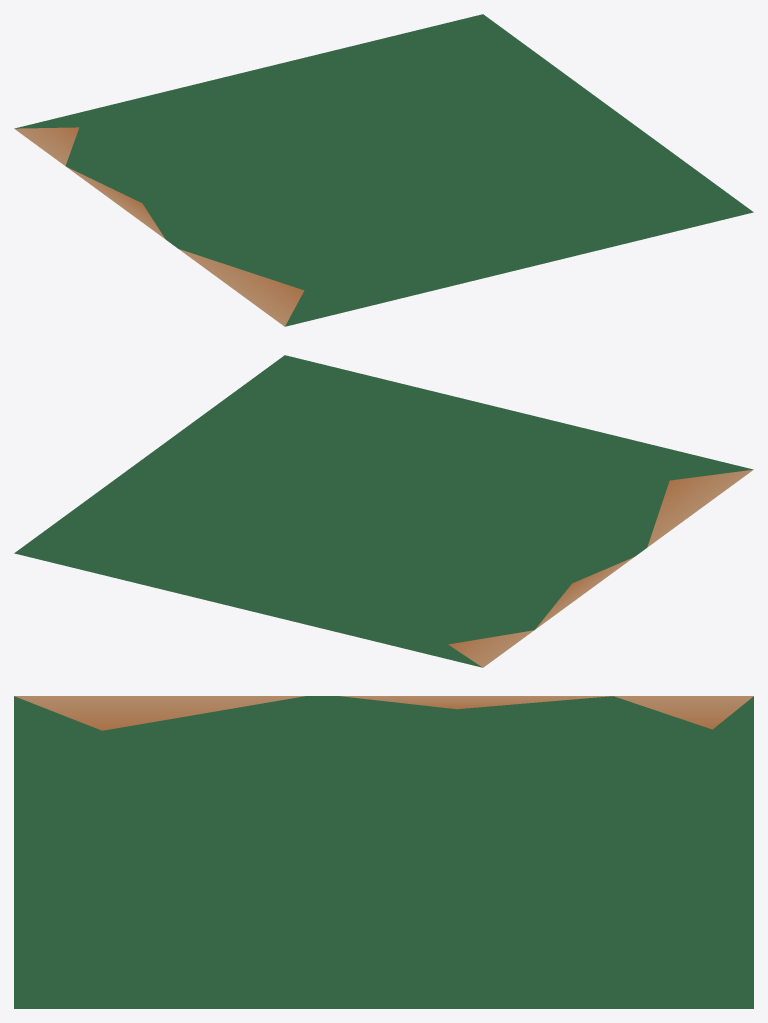
File: ground-edge-1.fbx
3 renders of one model, top to bottom at view 1: azimuth 30°, elevation 25°; view 2: azimuth 150°, elevation 25°; view 3: azimuth 270°, elevation 25°, orthographic. The views are drawn at different scales.
Visible parts, largest first — view 1: edge_ground_grass; view 2: edge_ground_grass; view 3: edge_ground_grass.
Boxes of the visible parts, x1,y1,x2,y2 form: edge_ground_grass: (14, 14, 753, 326); edge_ground_grass: (14, 355, 753, 667); edge_ground_grass: (14, 696, 753, 1008).
Bounding box in the file's own units: 100 × 1.63e-05 × 100.
